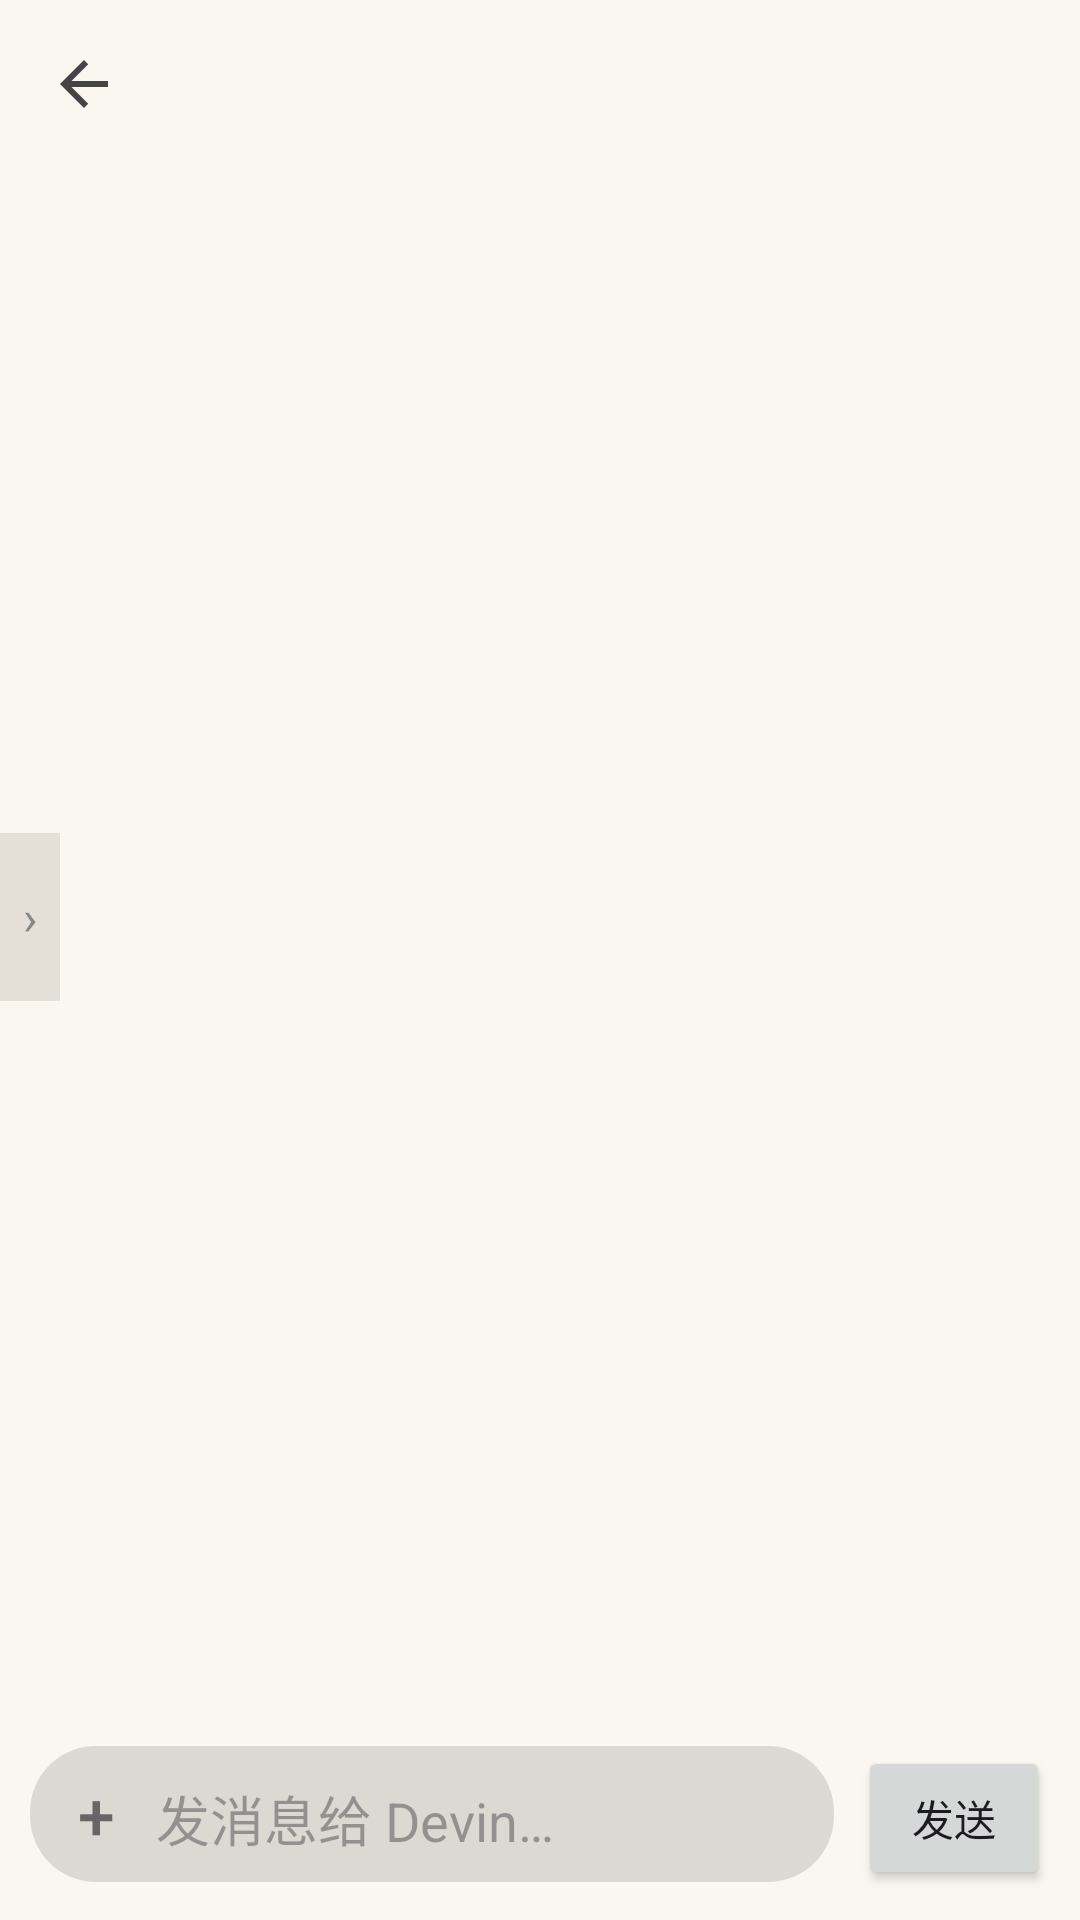

Screen size 1080x1920. Icon name, then its box in pixels as [left=x1, top=y1, right=x2, bottom=y2]:
返回: [left=60, top=60, right=108, bottom=108]
